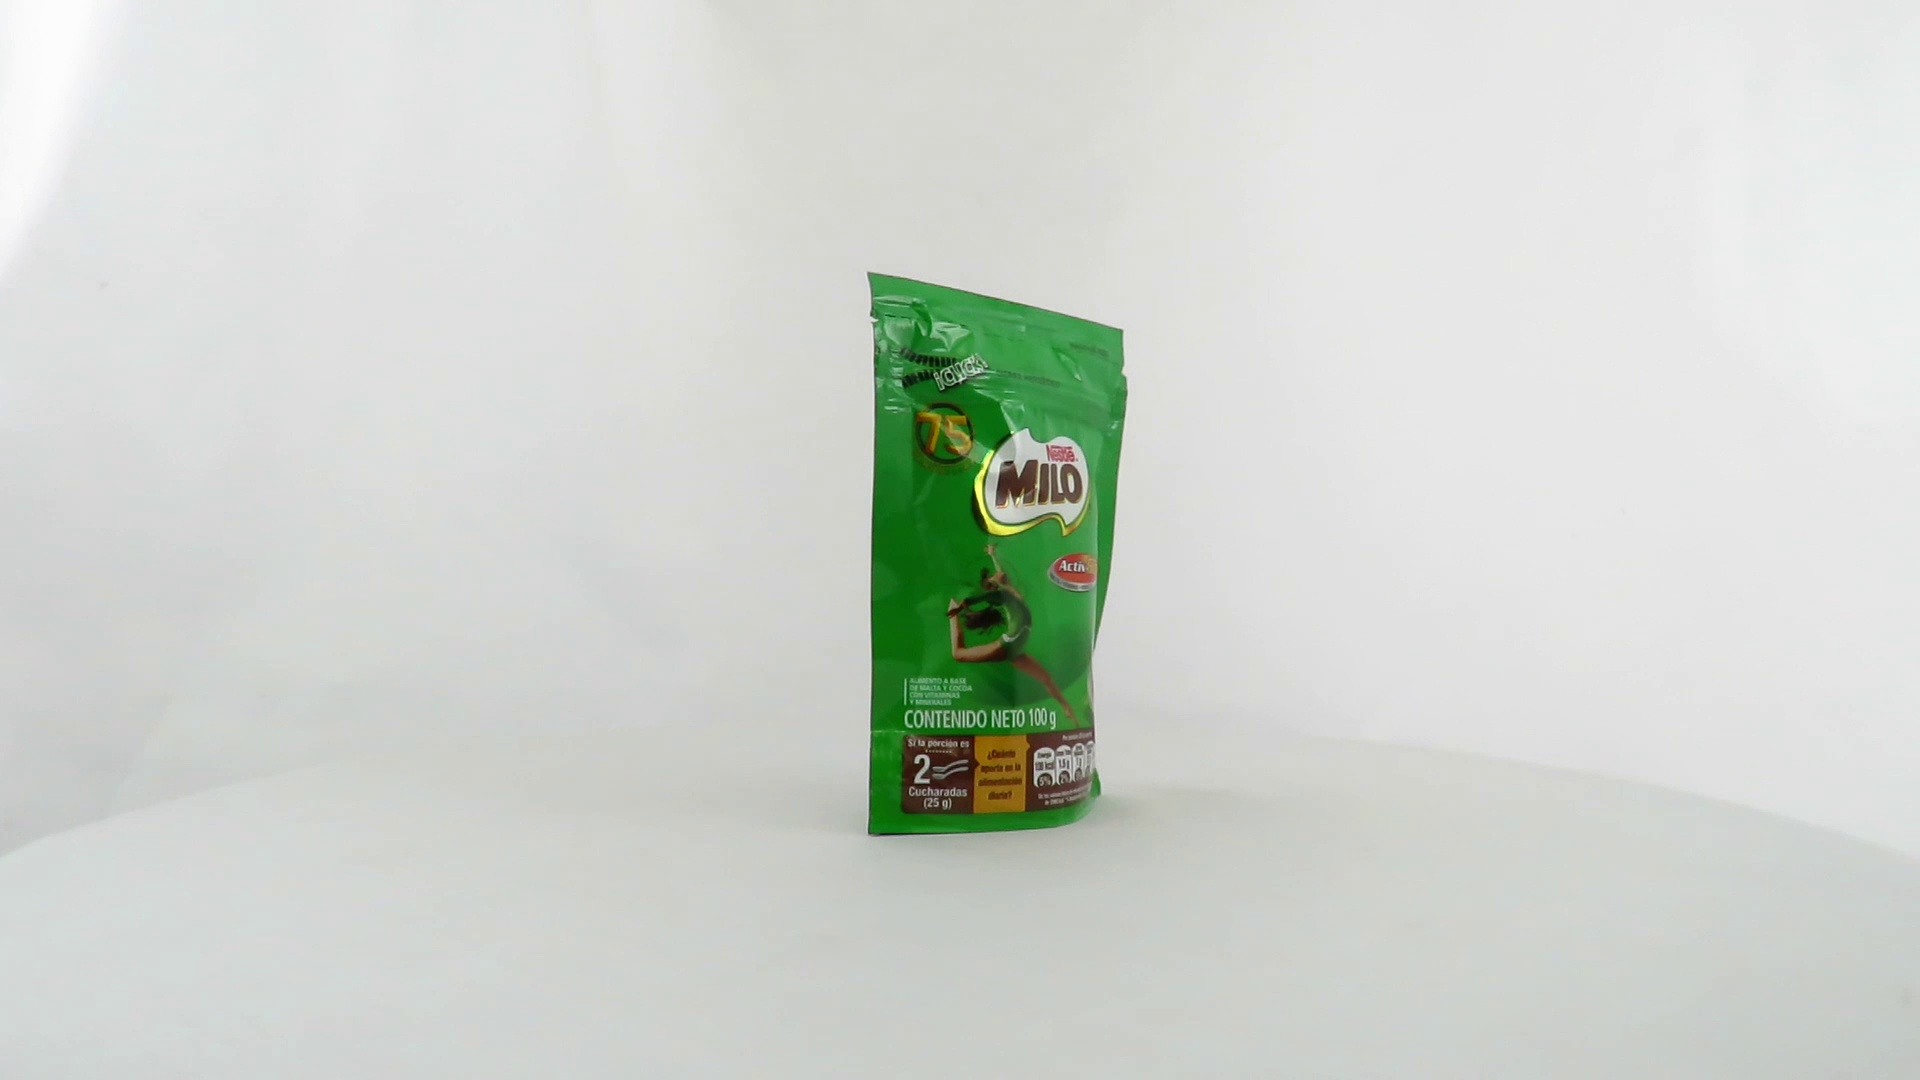COL0170203DYP10000: (862, 266, 1134, 843)
